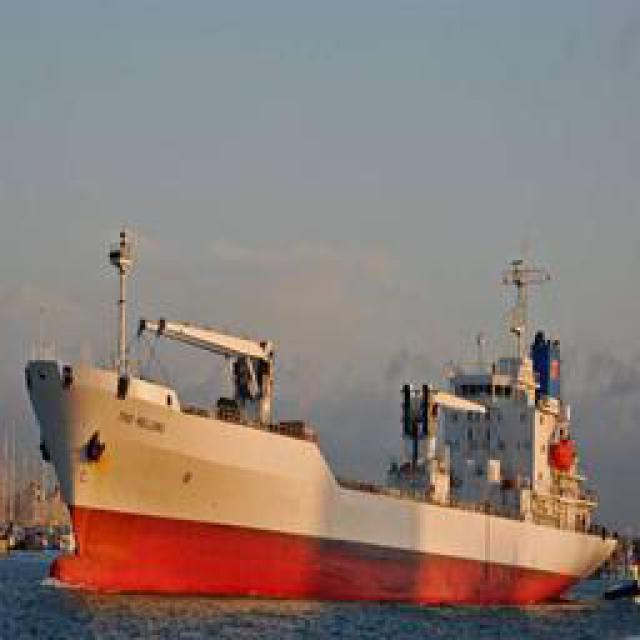Ship: (32, 263, 625, 618)
